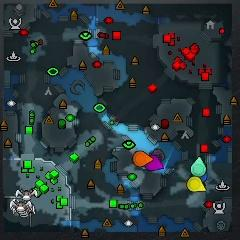p1: (201, 173, 208, 183)
p2: (191, 157, 206, 177)
p3: (145, 156, 163, 171)
p4: (186, 177, 207, 192)
p5: (132, 151, 152, 167)
